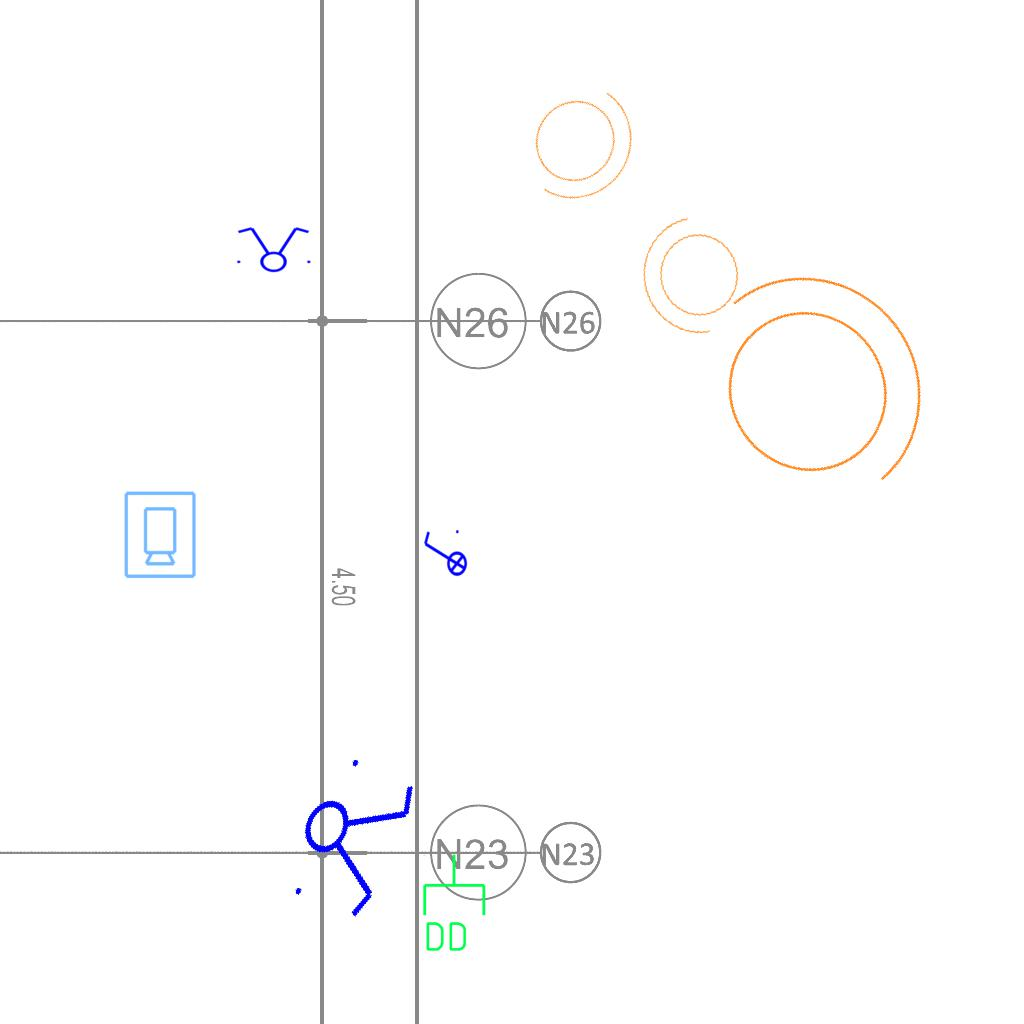Ausschalter_beleuchtet: (420, 527, 468, 583)
Datenanschluss_zweifach: (419, 852, 488, 955)
KFO_Kamera_mit_Festobjektiv: (121, 489, 198, 580)
Scheinwerfer_fuer_Alarmbeleuchtung: (639, 207, 983, 554), (498, 55, 664, 227), (627, 203, 763, 355)
Serienschalter: (272, 739, 430, 933), (231, 225, 315, 273)
